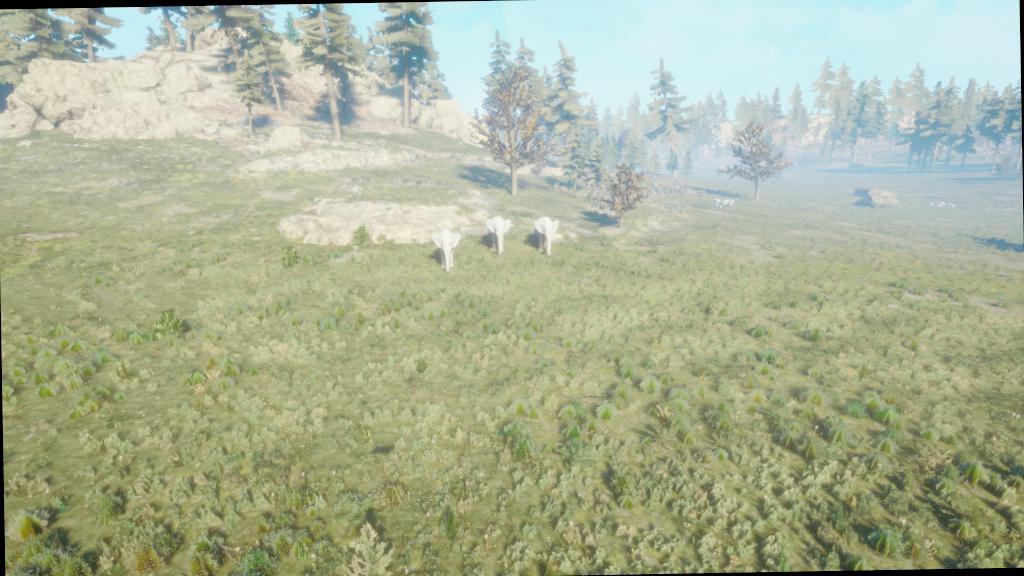elephant: (522, 201, 564, 262), (472, 199, 512, 259), (429, 222, 463, 276)
